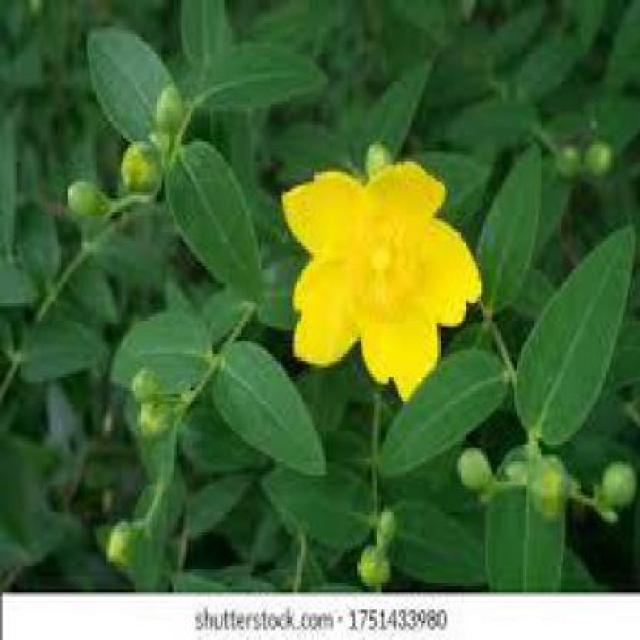flower: (268, 163, 486, 403)
